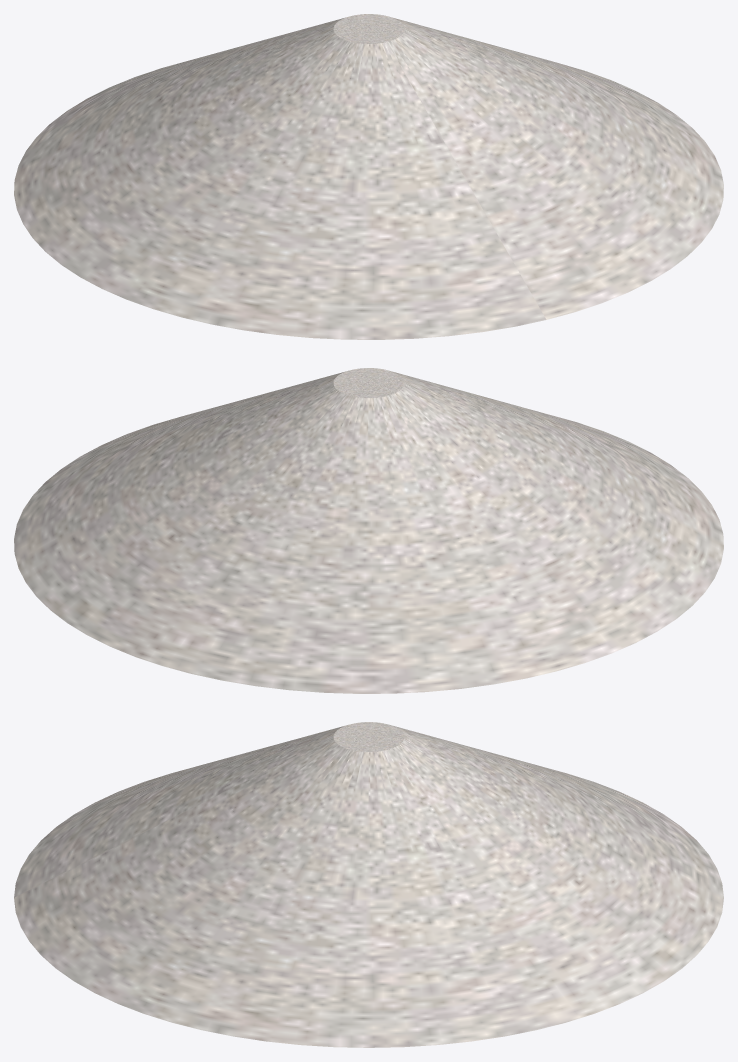
Rendered from flour.glb.
The picture shows the model from 3 angles, top to bottom: view 1: azimuth 30°, elevation 25°; view 2: azimuth 150°, elevation 25°; view 3: azimuth 270°, elevation 25°; orthographic projection.
Parts seen in each view (by area): view 1: MeshInstance3D; view 2: MeshInstance3D; view 3: MeshInstance3D.
Part boxes in pixels (x1=…): MeshInstance3D: x1=14, y1=14, x2=723, y2=339; MeshInstance3D: x1=14, y1=368, x2=723, y2=693; MeshInstance3D: x1=14, y1=722, x2=723, y2=1047.
Bounding box in the file's own units: 0.2 × 0.05 × 0.2.
Materials: 1 (1 with a texture image).
